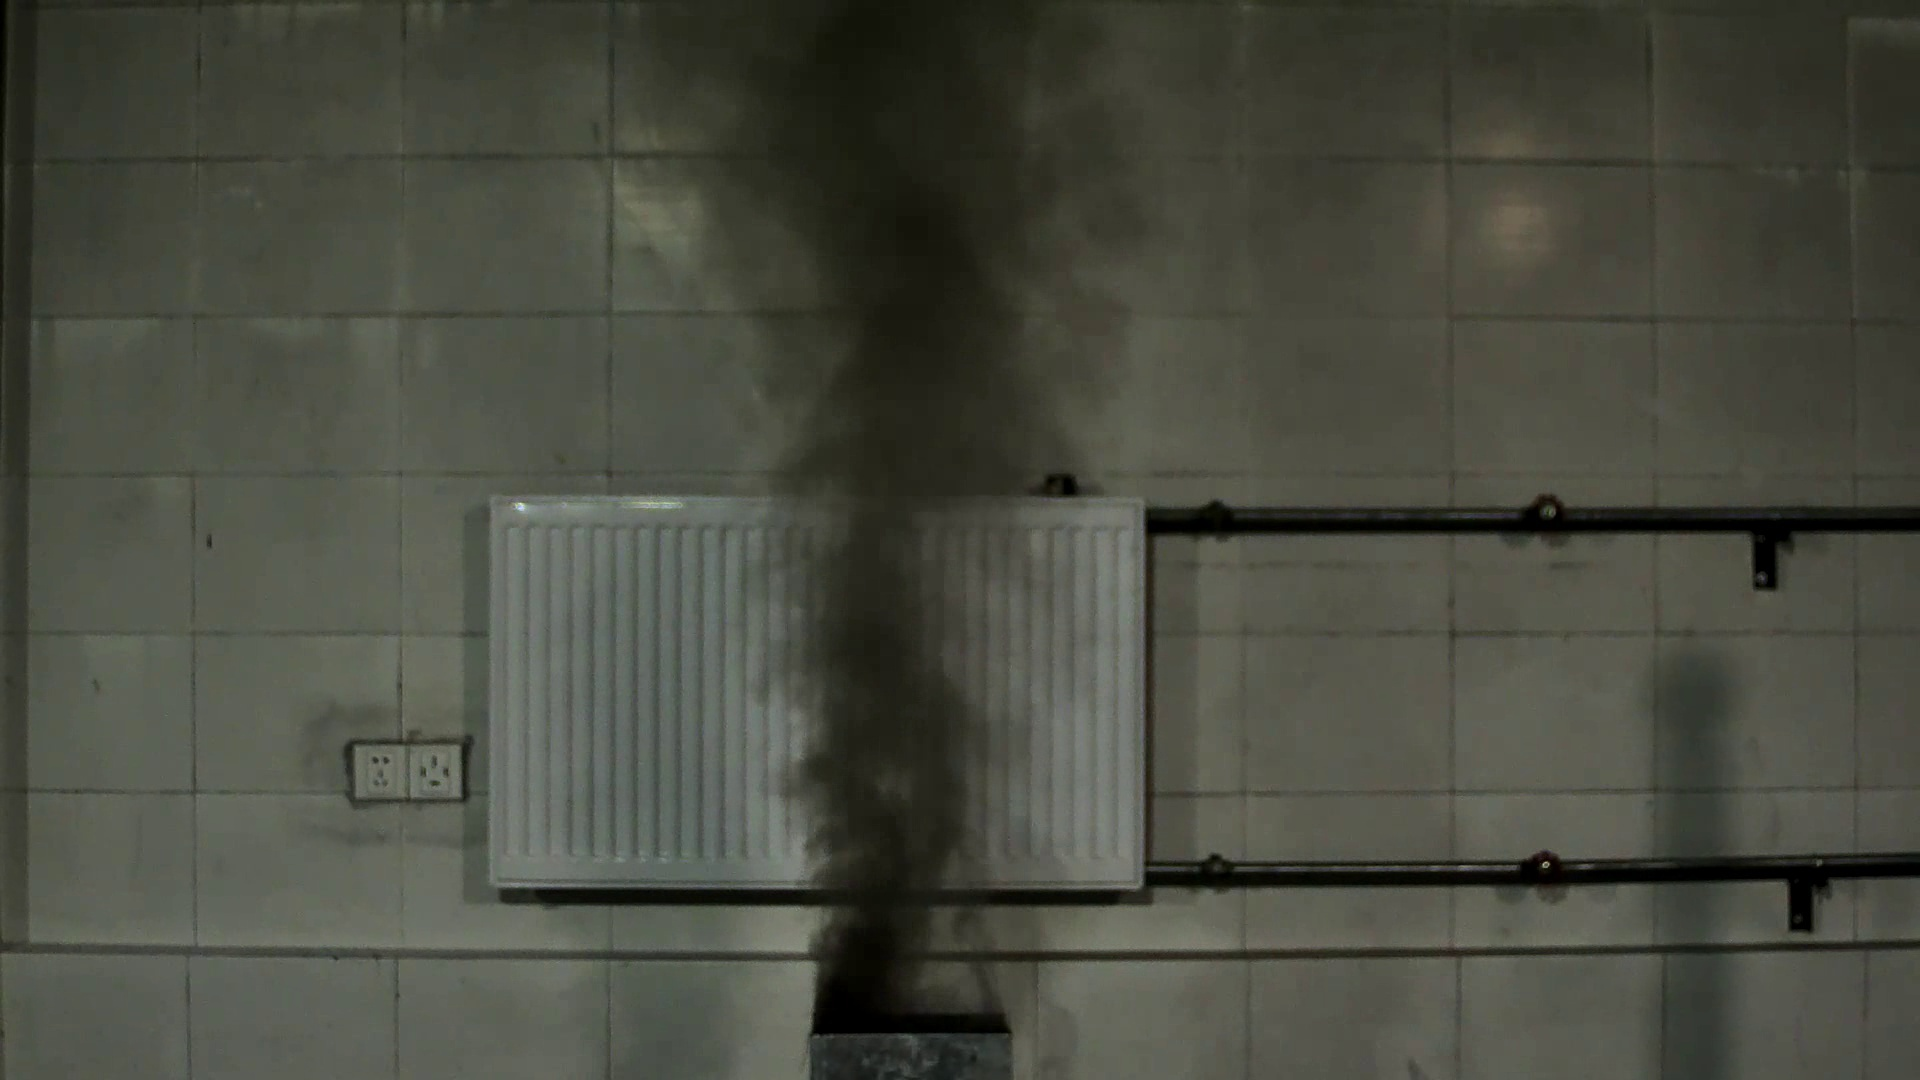smoke: (688, 127, 1088, 997)
